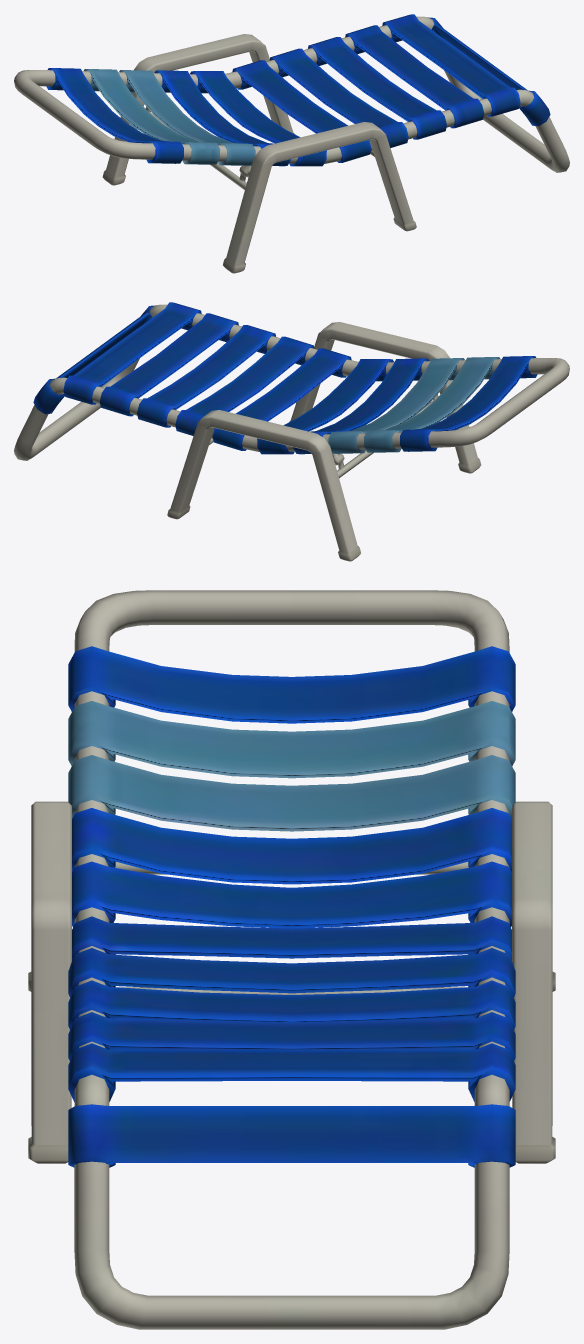
The model's file is beach-chair.glb.
3 renders of one model, top to bottom at view 1: azimuth 30°, elevation 25°; view 2: azimuth 150°, elevation 25°; view 3: azimuth 270°, elevation 25°, orthographic. The views are drawn at different scales.
Bounding box in the file's own units: 19.55 × 5.83 × 9.54.
Materials: 1 (1 with a texture image).
